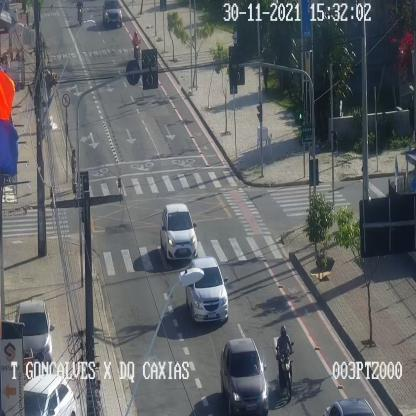car: (222, 339, 268, 413), (186, 258, 228, 322), (17, 300, 54, 361), (160, 203, 197, 262), (23, 376, 77, 416), (102, 0, 126, 31)
motorbike: (276, 324, 294, 398), (132, 31, 142, 67), (77, 1, 86, 26)
person: (71, 148, 77, 193), (232, 27, 238, 45)
